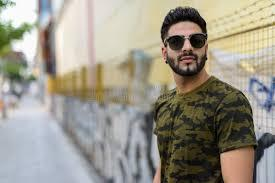sunglasses: (164, 30, 210, 55)
